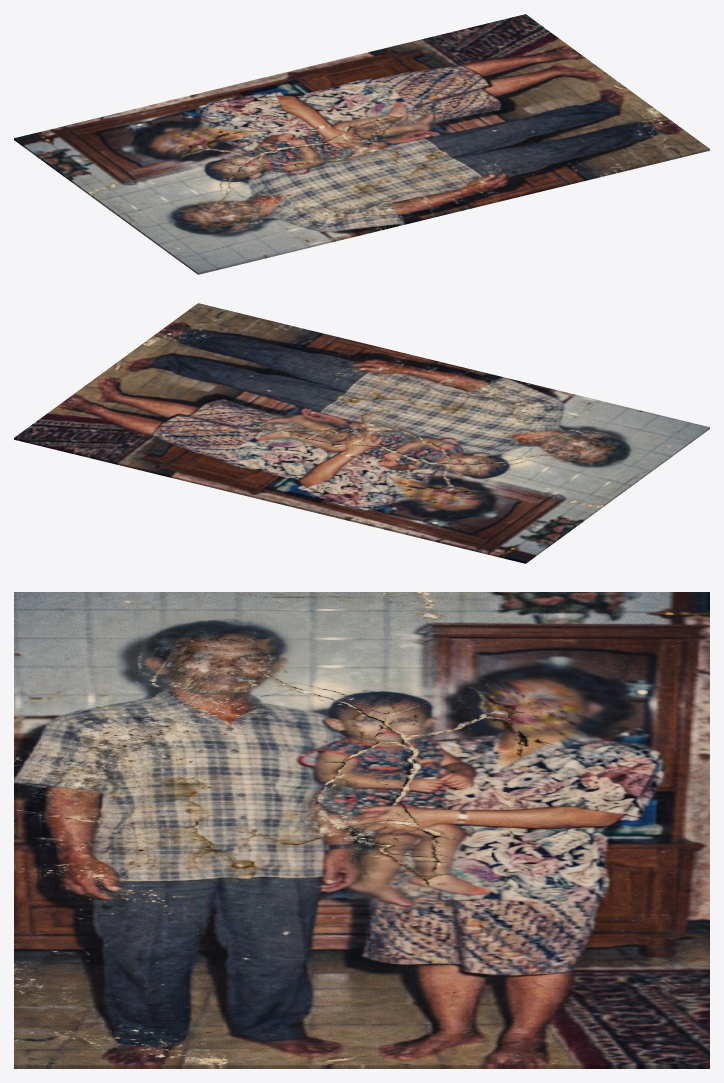
Rendered from Pecahan Foto.fbx.
The picture shows the model from 3 angles, top to bottom: view 1: azimuth 30°, elevation 25°; view 2: azimuth 150°, elevation 25°; view 3: azimuth 270°, elevation 25°; orthographic projection. The views are drawn at different scales.
Parts seen in each view (by area): view 1: Pecahan foto ibu, Pecahan foto bapak, Pecahan foto bapak2, Pecahan foto anak; view 2: Pecahan foto ibu, Pecahan foto bapak, Pecahan foto bapak2, Pecahan foto anak; view 3: Pecahan foto ibu, Pecahan foto bapak, Pecahan foto bapak2, Pecahan foto anak.
Boxes of the visible parts, x1=… form: Pecahan foto ibu: x1=14, y1=14, x2=556, y2=177; Pecahan foto bapak: x1=45, y1=143, x2=525, y2=274; Pecahan foto bapak2: x1=317, y1=37, x2=709, y2=245; Pecahan foto anak: x1=197, y1=114, x2=525, y2=187; Pecahan foto ibu: x1=14, y1=400, x2=557, y2=563; Pecahan foto bapak: x1=279, y1=373, x2=709, y2=540; Pecahan foto bapak2: x1=46, y1=303, x2=589, y2=414; Pecahan foto anak: x1=236, y1=373, x2=514, y2=478; Pecahan foto ibu: x1=354, y1=592, x2=709, y2=1068; Pecahan foto bapak: x1=14, y1=592, x2=590, y2=942; Pecahan foto bapak2: x1=14, y1=703, x2=591, y2=1068; Pecahan foto anak: x1=209, y1=682, x2=521, y2=947.
Size of the model in its own units: 0.3242 by 0.00153 by 0.2021.
Materials: 1 (1 with a texture image).
